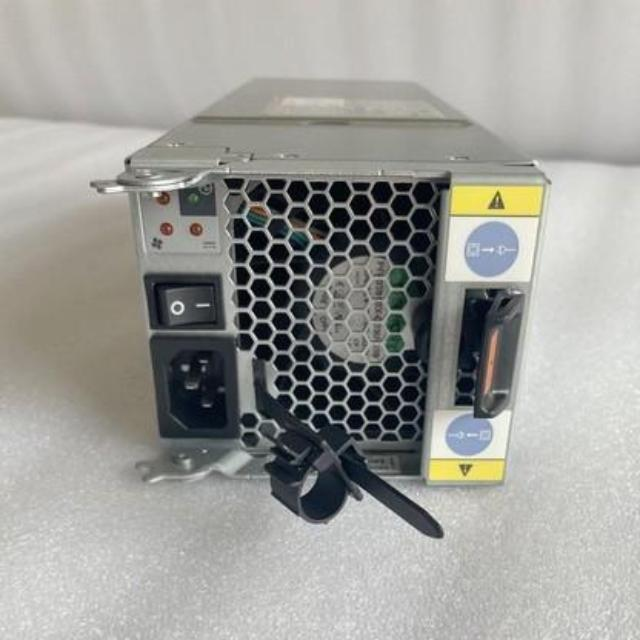PSU: (92, 50, 560, 510)
